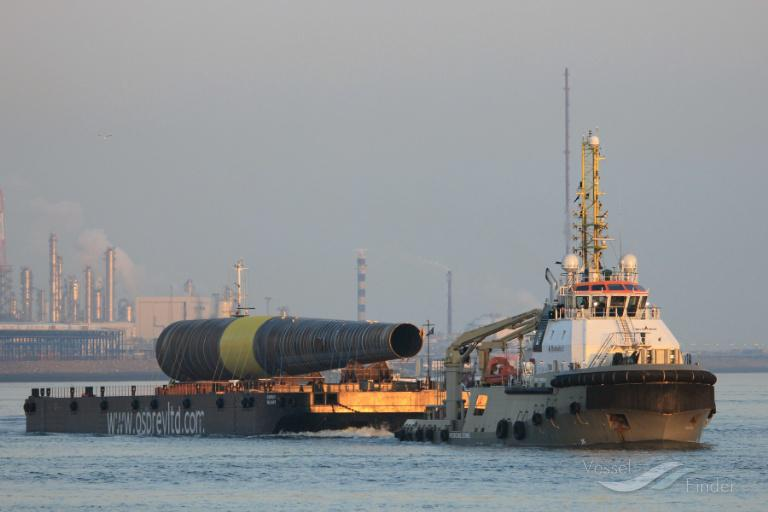OCR: (100, 402, 210, 438)
